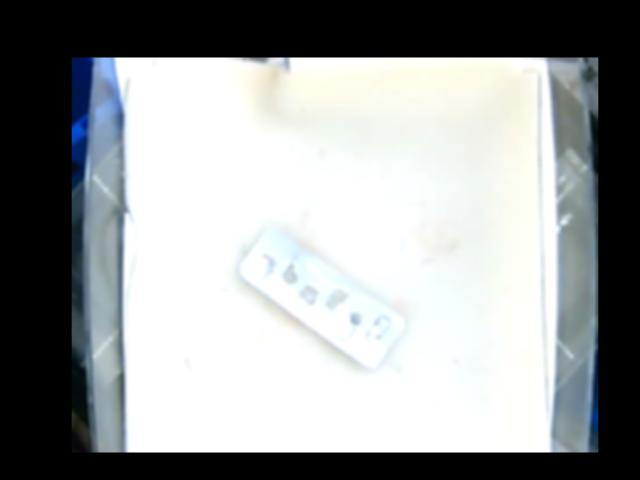Medicine: (237, 227, 403, 368)
